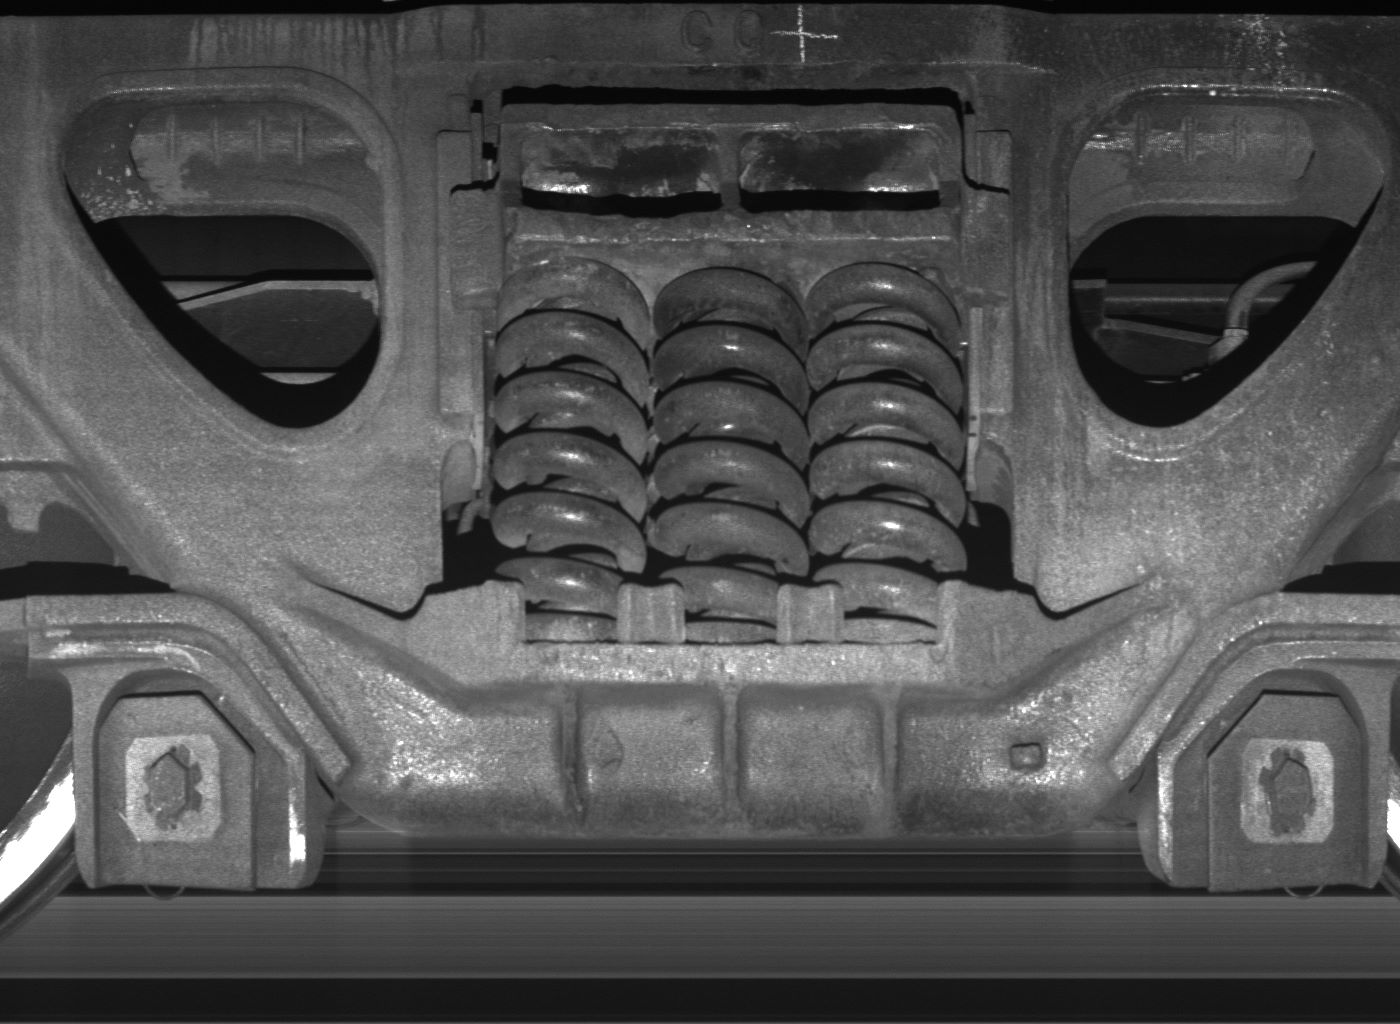normal: (72, 669, 309, 891), (1173, 670, 1388, 891)
